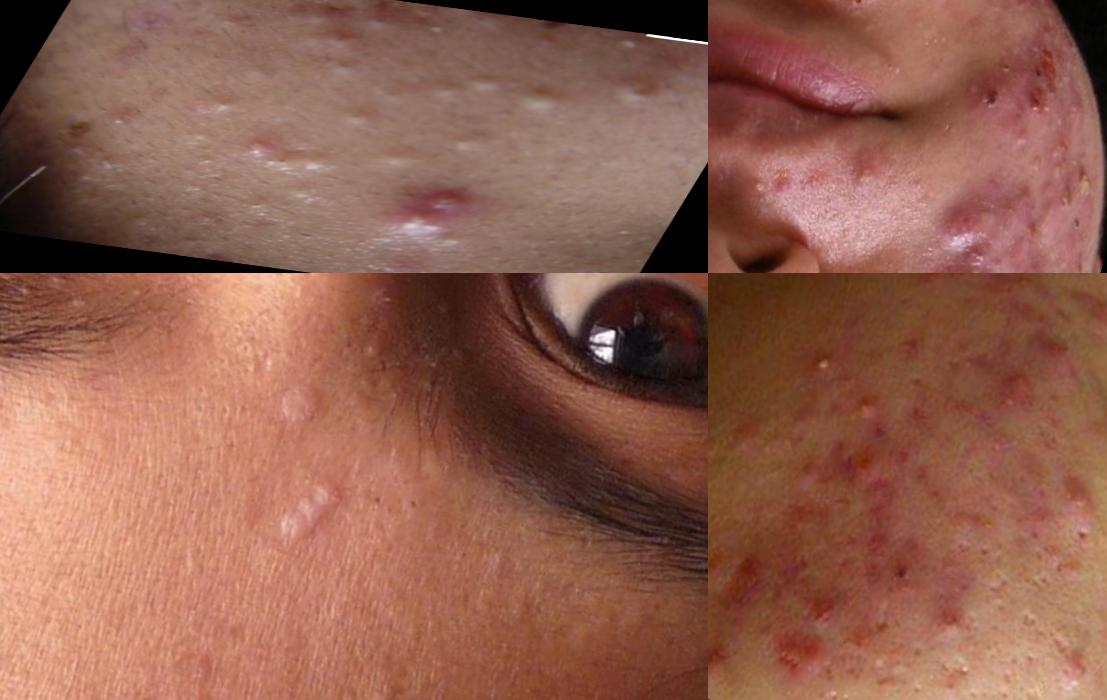blackhead: (395, 477, 448, 538), (359, 467, 402, 522)
flat_wart: (257, 458, 357, 571), (261, 377, 338, 441)
folliculitis: (847, 157, 894, 199), (745, 165, 779, 206)
papular: (709, 538, 778, 626), (775, 621, 846, 692), (1041, 467, 1107, 539), (774, 486, 842, 549), (985, 360, 1053, 422), (918, 592, 990, 648), (1024, 332, 1092, 386), (1062, 274, 1107, 345), (846, 434, 897, 493), (709, 632, 763, 685), (1050, 645, 1099, 694), (774, 160, 808, 202)
purulent: (795, 335, 859, 397), (843, 388, 890, 432), (597, 33, 667, 56), (229, 134, 285, 157)
sebo-crystan-conglo: (1002, 100, 1107, 270), (959, 20, 1081, 143), (374, 180, 506, 248), (949, 175, 1046, 254), (795, 576, 858, 643), (937, 244, 1013, 274), (995, 246, 1053, 274)
whitehead: (413, 61, 522, 111), (595, 67, 699, 113), (311, 97, 413, 138), (351, 139, 447, 181), (499, 81, 584, 121), (216, 53, 297, 93), (435, 119, 512, 158), (346, 318, 391, 378), (430, 339, 485, 377), (431, 274, 473, 321), (270, 177, 340, 203), (312, 54, 377, 80), (304, 29, 368, 54), (199, 89, 243, 121), (352, 10, 404, 36), (95, 108, 150, 131), (287, 151, 336, 176)
